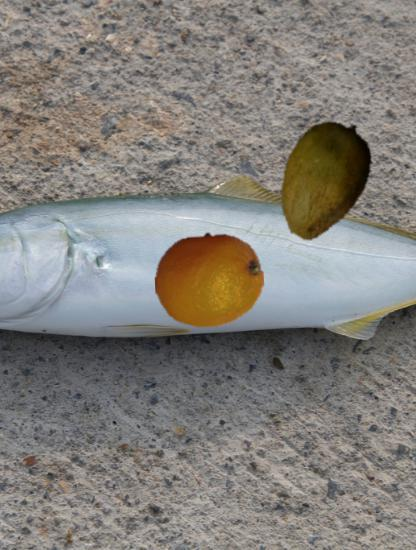Lemon: (155, 226, 264, 335)
Papaya: (260, 116, 387, 243)
